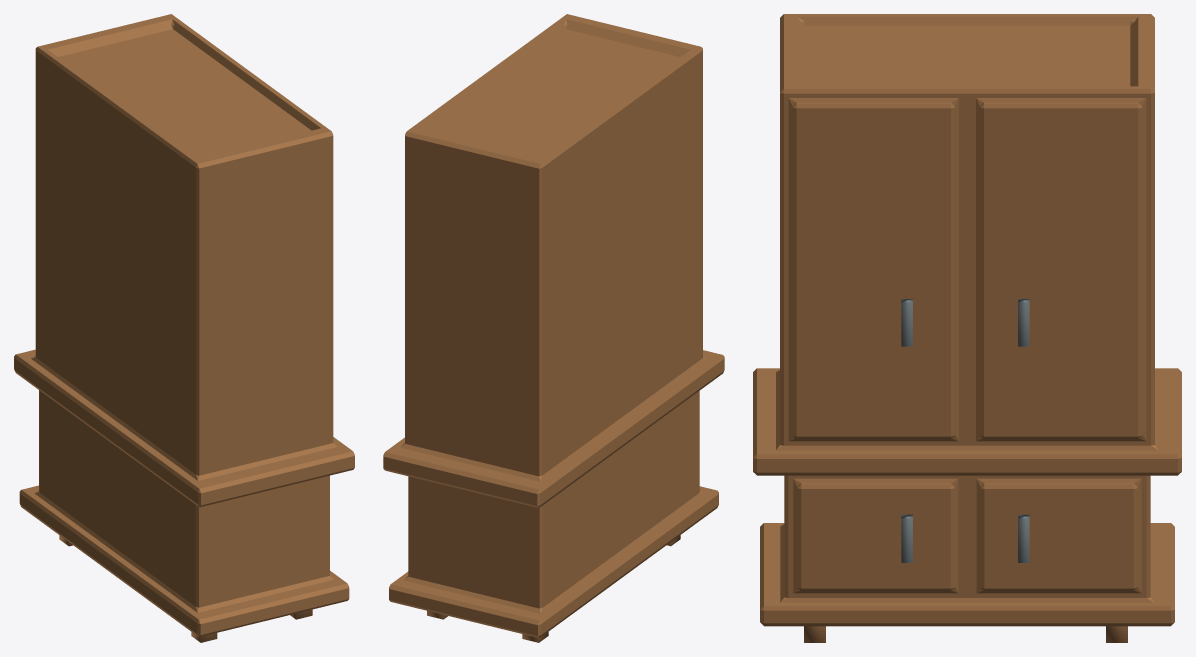
File: Closet1.fbx
3 views of the same model, side by side, from view 1: azimuth 30°, elevation 25°; view 2: azimuth 150°, elevation 25°; view 3: azimuth 270°, elevation 25° (orthographic). The views are drawn at different scales.
Parts seen in each view (by area): view 1: Cube.036; view 2: Cube.036; view 3: Cube.036.
Part boxes in pixels (<box>): Cube.036: <box>14,14,354,636</box>; Cube.036: <box>383,14,724,637</box>; Cube.036: <box>753,14,1181,626</box>.
Bounding box in the file's own units: 160 × 470 × 326.
